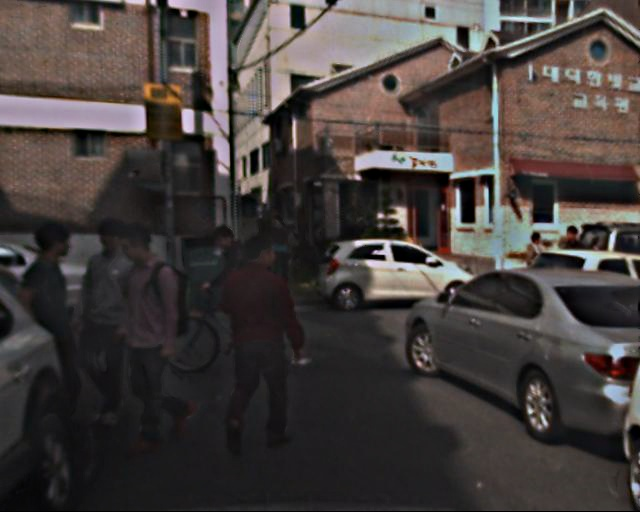person: (102, 222, 199, 449), (15, 221, 116, 425), (63, 221, 160, 431), (214, 236, 303, 453), (199, 225, 255, 357), (261, 214, 296, 298), (557, 226, 588, 302), (522, 232, 550, 301)
